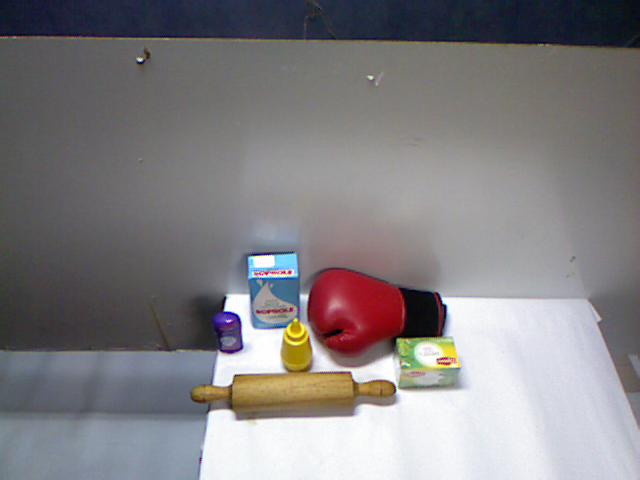azucarero: (371, 352, 435, 418)
cafe: (344, 279, 401, 353)
durazno: (285, 278, 341, 340)
greda: (211, 319, 299, 400)
leche: (398, 270, 471, 359)
limon: (304, 359, 360, 408)
